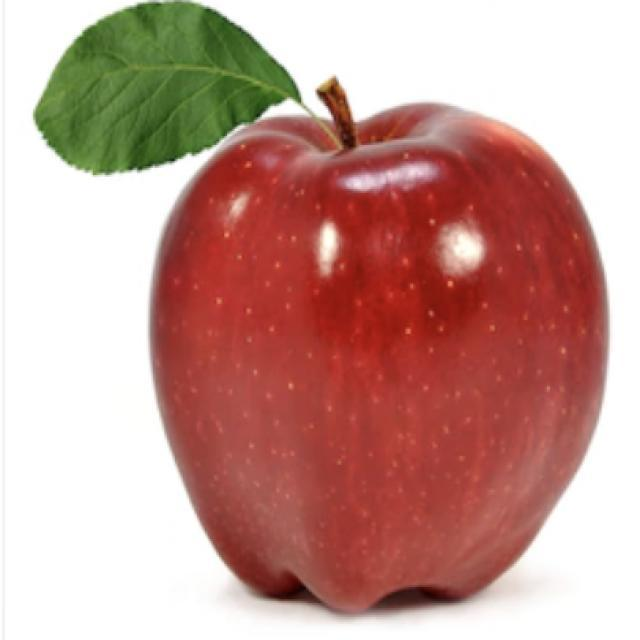Fresh Apple: (148, 96, 600, 612)
